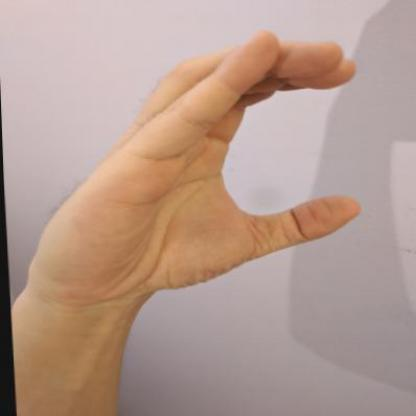C: (7, 26, 370, 308)
